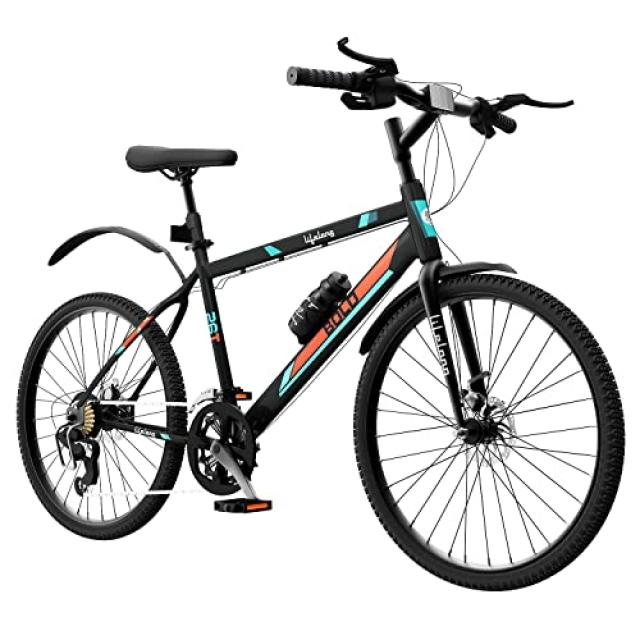bicycle: (18, 39, 624, 589)
